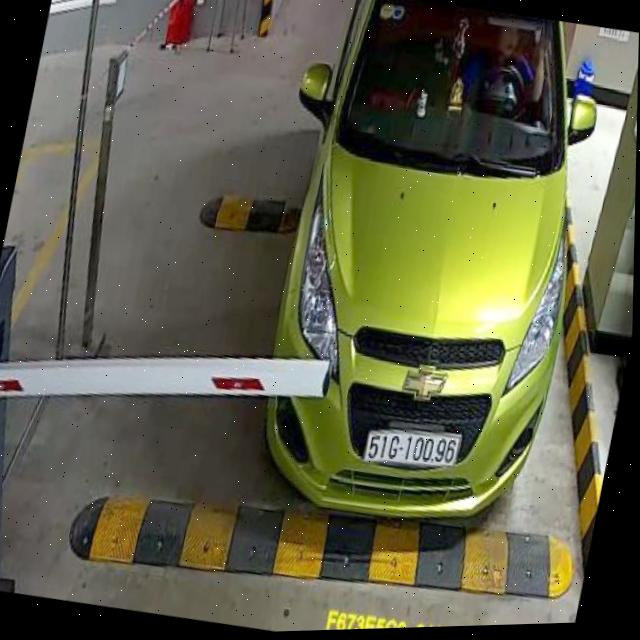car: (213, 0, 635, 556)
plate: (359, 420, 465, 479)
